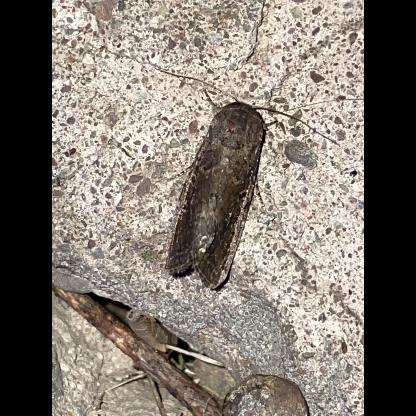Fall Armyworm Moth: (152, 63, 344, 295)
